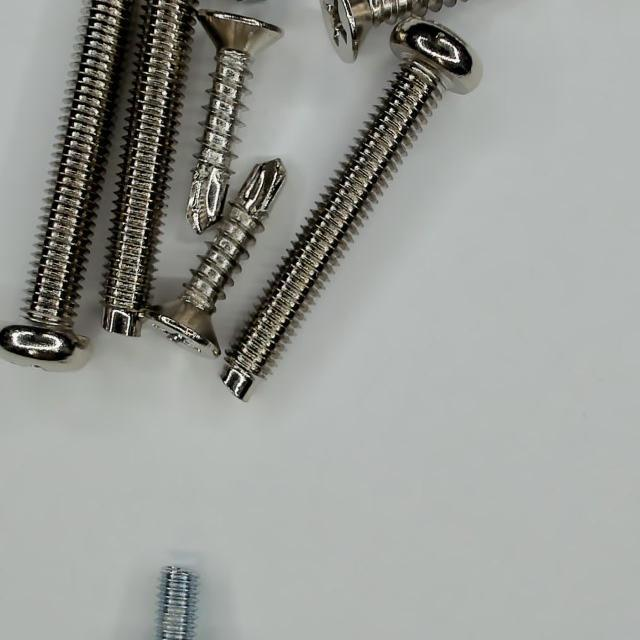Screw: (222, 17, 483, 400), (0, 0, 130, 362), (102, 0, 196, 336), (151, 159, 286, 356), (187, 9, 283, 233), (322, 0, 458, 62), (157, 567, 197, 640)
